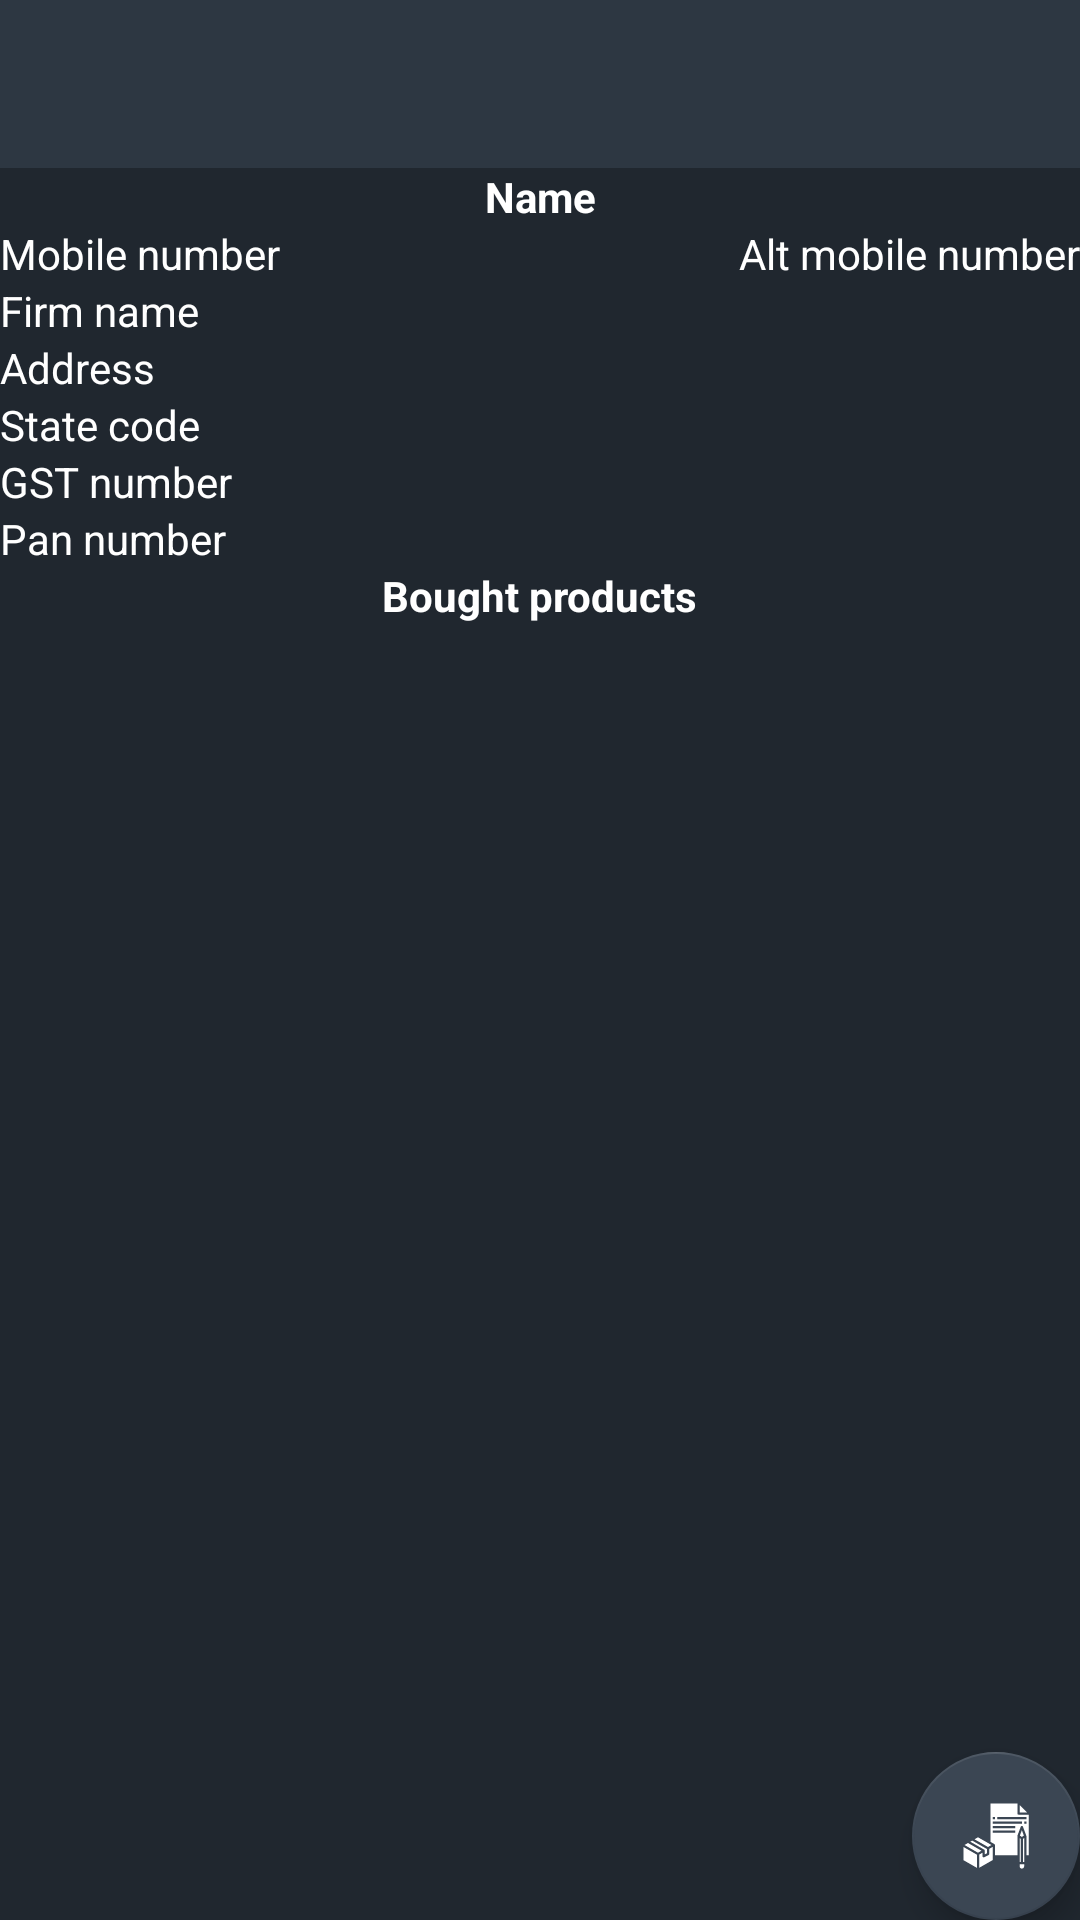

Screen size 1080x1920. Icon name, then its box in pixels as (x1, y1, x2, y2):
inventory: (912, 1752, 1080, 1920)
